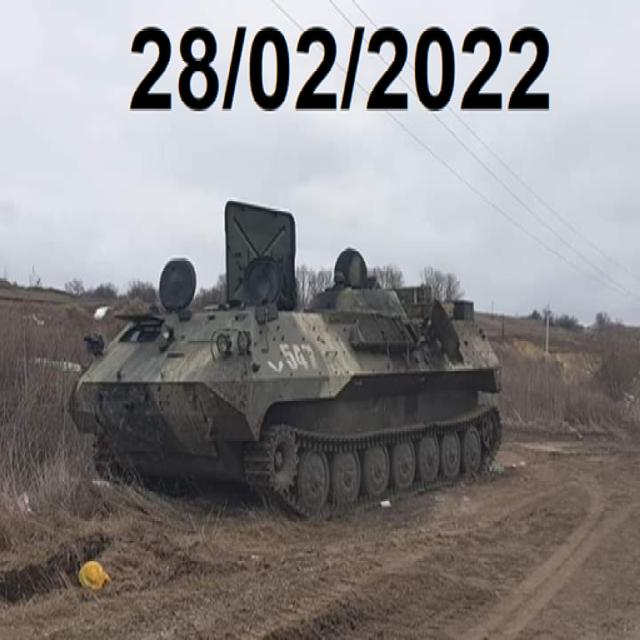APC-IFV: (71, 200, 504, 513)
